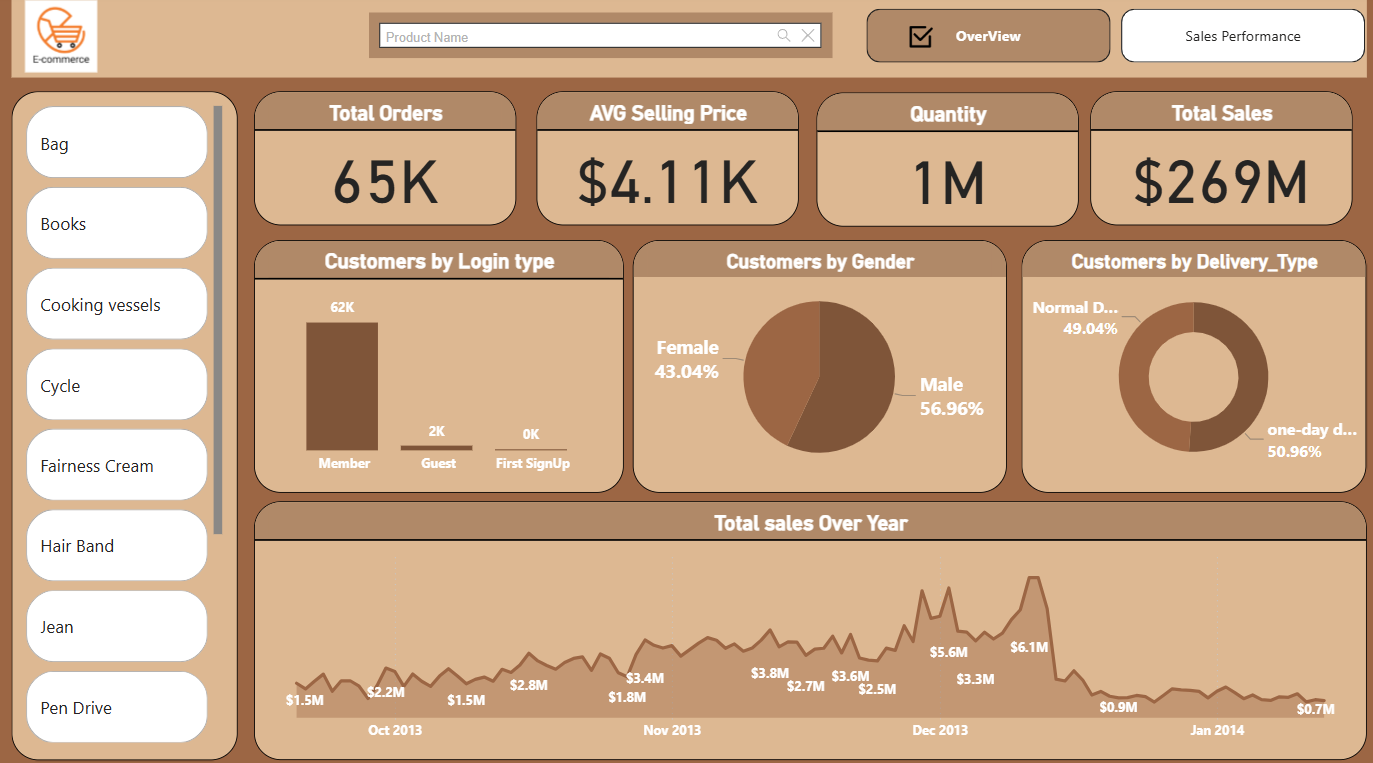

Layout of this report page (visuals, bound fields, positions):
{"tool":"powerbi","page":{"name":"OverView ","canvas":[1280,720],"ordinal":0},"visuals":[{"type":"advancedSlicerVisual","fields":{"Values":["Us-Ecommerce Dataset.Product"],"Label":["Min(Us-Ecommerce Dataset.Product)"]},"box":[11.6,89.5,210.5,622.1],"z":0},{"type":"shape","box":[11.6,0,1260.5,76.7],"z":1000},{"type":"pageNavigator","box":[807,12.8,465.1,50],"z":2000},{"type":"image","box":[830.2,23.3,54.7,31.4],"z":3000},{"type":"textSearchSlicerF85E2E78BE4A4D7D9F99ED75B5D71C85","fields":{"fields":["Us-Ecommerce Dataset.Product"]},"box":[343.9,16.7,431,42.4],"z":4000},{"type":"card","title":"Total Orders","fields":{"Values":["Us-Ecommerce Dataset.# Transactions"]},"box":[237.2,89.5,244.2,124.4],"z":5000},{"type":"card","title":"Total Sales ","fields":{"Values":["Us-Ecommerce Dataset.$ Total sales"]},"box":[1015.1,89.5,244.2,124.4],"z":6000},{"type":"card","title":"Quantity","fields":{"Values":["Us-Ecommerce Dataset.# Quantity"]},"box":[760.5,90.7,244.2,124.4],"z":7000},{"type":"card","title":"AVG Selling Price ","fields":{"Values":["Us-Ecommerce Dataset.$ AVG Salling price"]},"box":[500,89.5,244.2,124.4],"z":8000},{"type":"columnChart","title":"Customers by Login type","fields":{"Y":["Us-Ecommerce Dataset.# Customers"],"Category":["Us-Ecommerce Dataset.Customer_Login_type"]},"box":[237.2,227.9,344.2,234.9],"z":9000},{"type":"stackedAreaChart","title":"Total sales Over Year ","fields":{"Y":["Us-Ecommerce Dataset.$ Total sales","Us-Ecommerce Dataset.$ Total sales"],"Category":["Us-Ecommerce Dataset.Date.Variation.Date Hierarchy.Year","Us-Ecommerce Dataset.Date.Variation.Date Hierarchy.Quarter","Us-Ecommerce Dataset.Date.Variation.Date Hierarchy.Month","Us-Ecommerce Dataset.Date.Variation.Date Hierarchy.Day"]},"box":[237.2,470.9,1034.9,240.7],"z":10000},{"type":"pieChart","title":"Customers by Gender","fields":{"Y":["Us-Ecommerce Dataset.# Customers"],"Category":["Us-Ecommerce Dataset.Gender"]},"box":[589.5,227.9,347.7,234.9],"z":11000},{"type":"donutChart","title":"Customers by Delivery_Type","fields":{"Y":["Us-Ecommerce Dataset.# Customers"],"Category":["Us-Ecommerce Dataset.Delivery_Type"]},"box":[951.2,227.9,320.9,234.9],"z":12000},{"type":"image","box":[19,0,78.2,77],"z":13000}]}

Visuals, with their boxes in screenshot pixels (x1, y1, x2, y2), scaled from the page's 1280x720 canvas onto the 1373x763 screenshot:
advancedSlicerVisual - Us-Ecommerce Dataset.Product x Min(Us-Ecommerce Dataset.Product): (12,95,238,754)
shape: (12,0,1365,81)
pageNavigator: (866,14,1365,67)
image: (891,25,949,58)
textSearchSlicerF85E2E78BE4A4D7D9F99ED75B5D71C85 - Us-Ecommerce Dataset.Product: (369,18,831,63)
"Total Orders" card: (254,95,516,227)
"Total Sales " card: (1089,95,1351,227)
"Quantity" card: (816,96,1078,228)
"AVG Selling Price " card: (536,95,798,227)
"Customers by Login type" columnChart: (254,242,624,490)
"Total sales Over Year " stackedAreaChart: (254,499,1365,754)
"Customers by Gender" pieChart: (632,242,1005,490)
"Customers by Delivery_Type" donutChart: (1020,242,1365,490)
image: (20,0,104,82)
